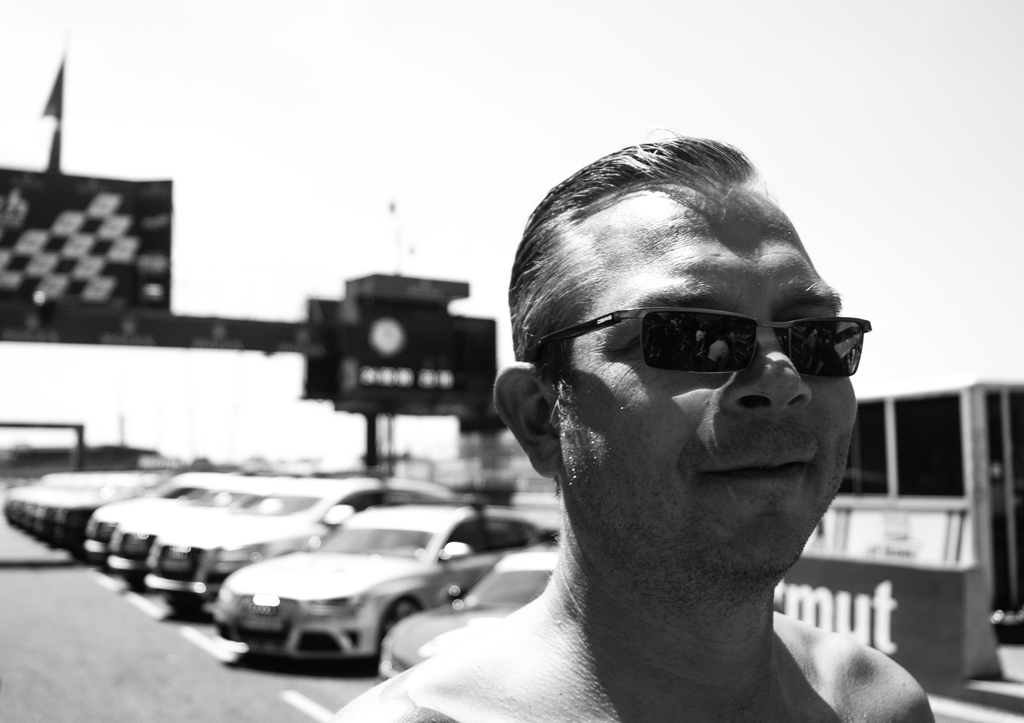Car: (206, 494, 555, 671), (381, 536, 552, 686)
